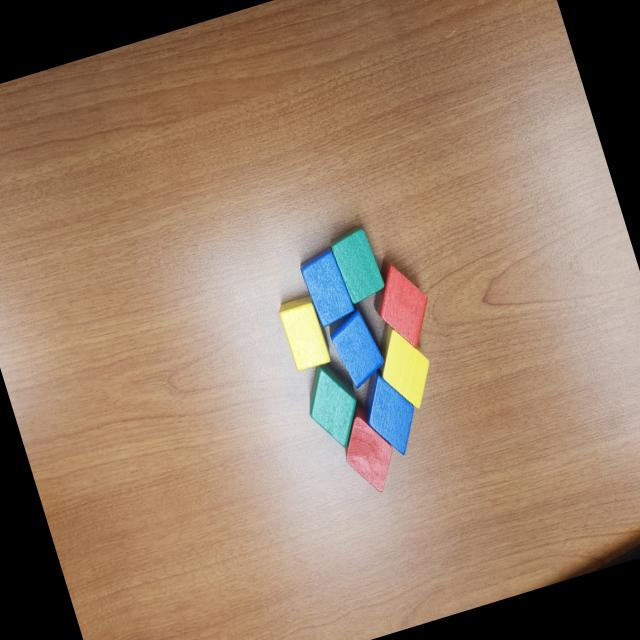blue: (353, 362, 427, 462), (320, 302, 390, 396), (296, 244, 358, 329)
green: (295, 356, 370, 454), (326, 222, 388, 308)
red: (361, 248, 442, 358), (332, 397, 404, 498)
yellow: (367, 311, 442, 415), (276, 294, 332, 372)
